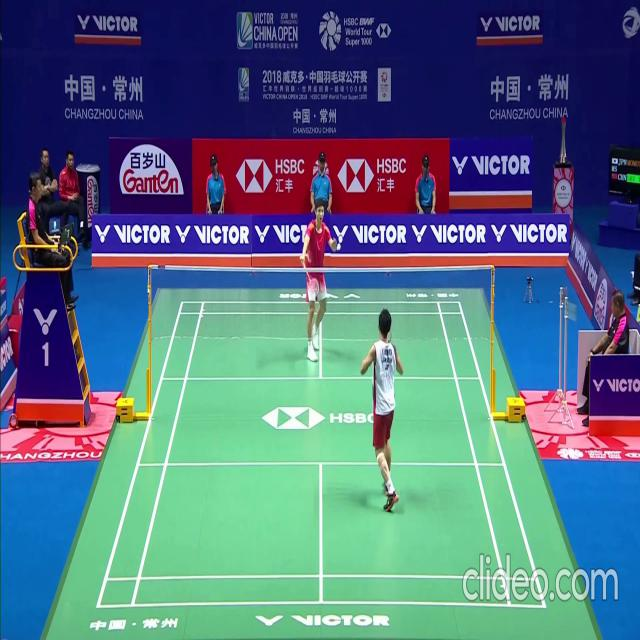Shuttlecock: (336, 242, 341, 249)
